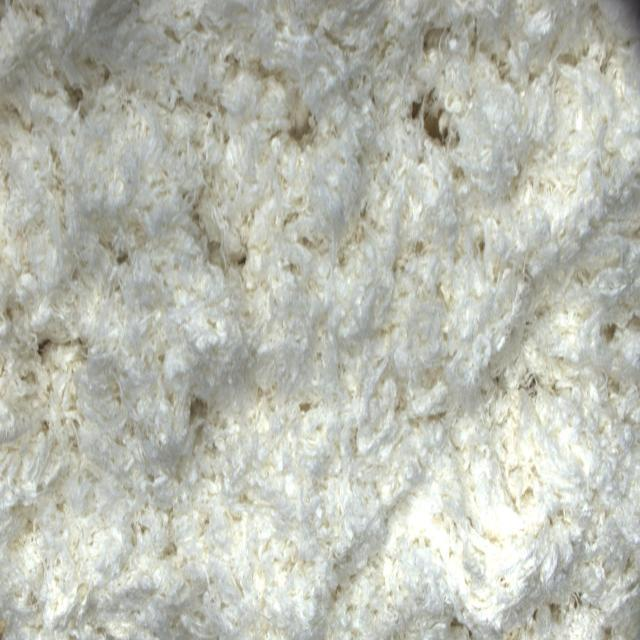dust: (411, 93, 458, 156)
